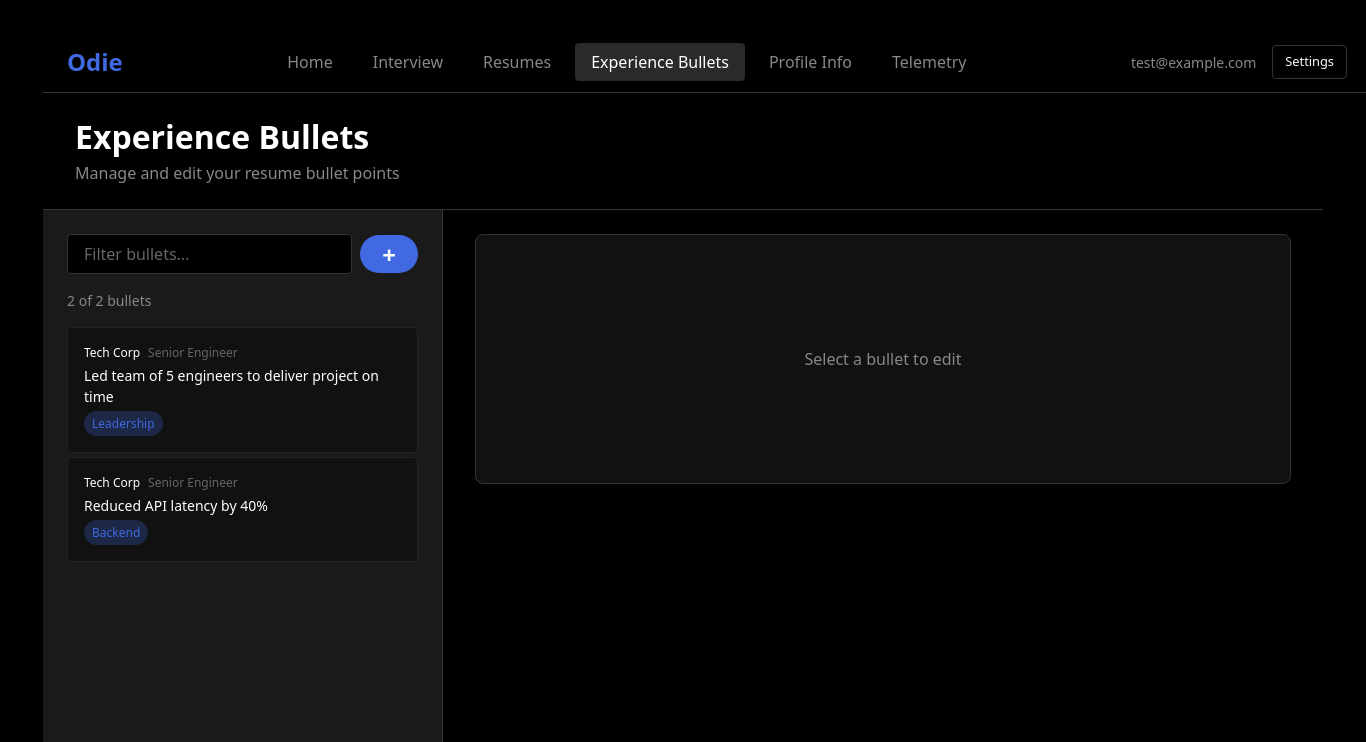
Test: BulletsPage › should select bullet when clicked
Step 1. Click the text "Led team of 5 engineers to deliver project on time" → (242, 386), box [84,365,401,407]
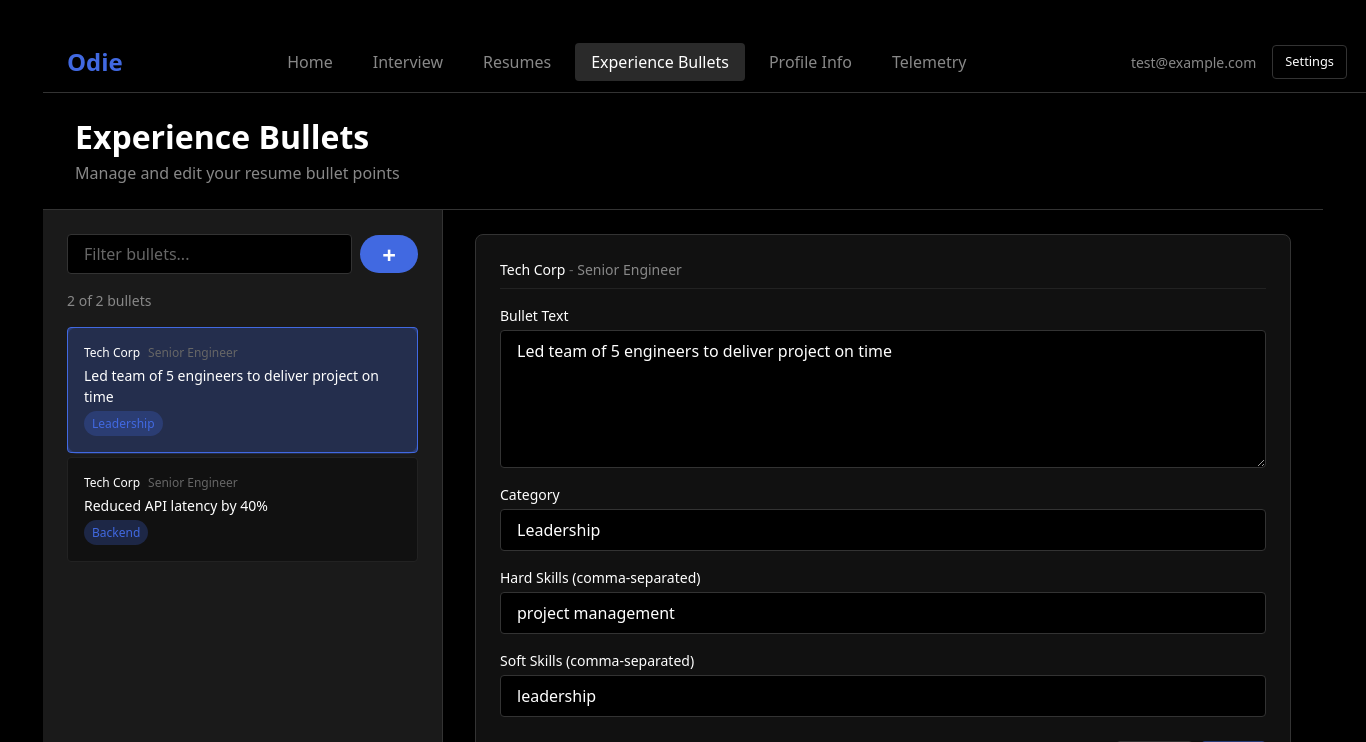
Check: the text box showing "Led team of 5 engineers to deliver project on time" is shown, box [500,330,1266,468]
